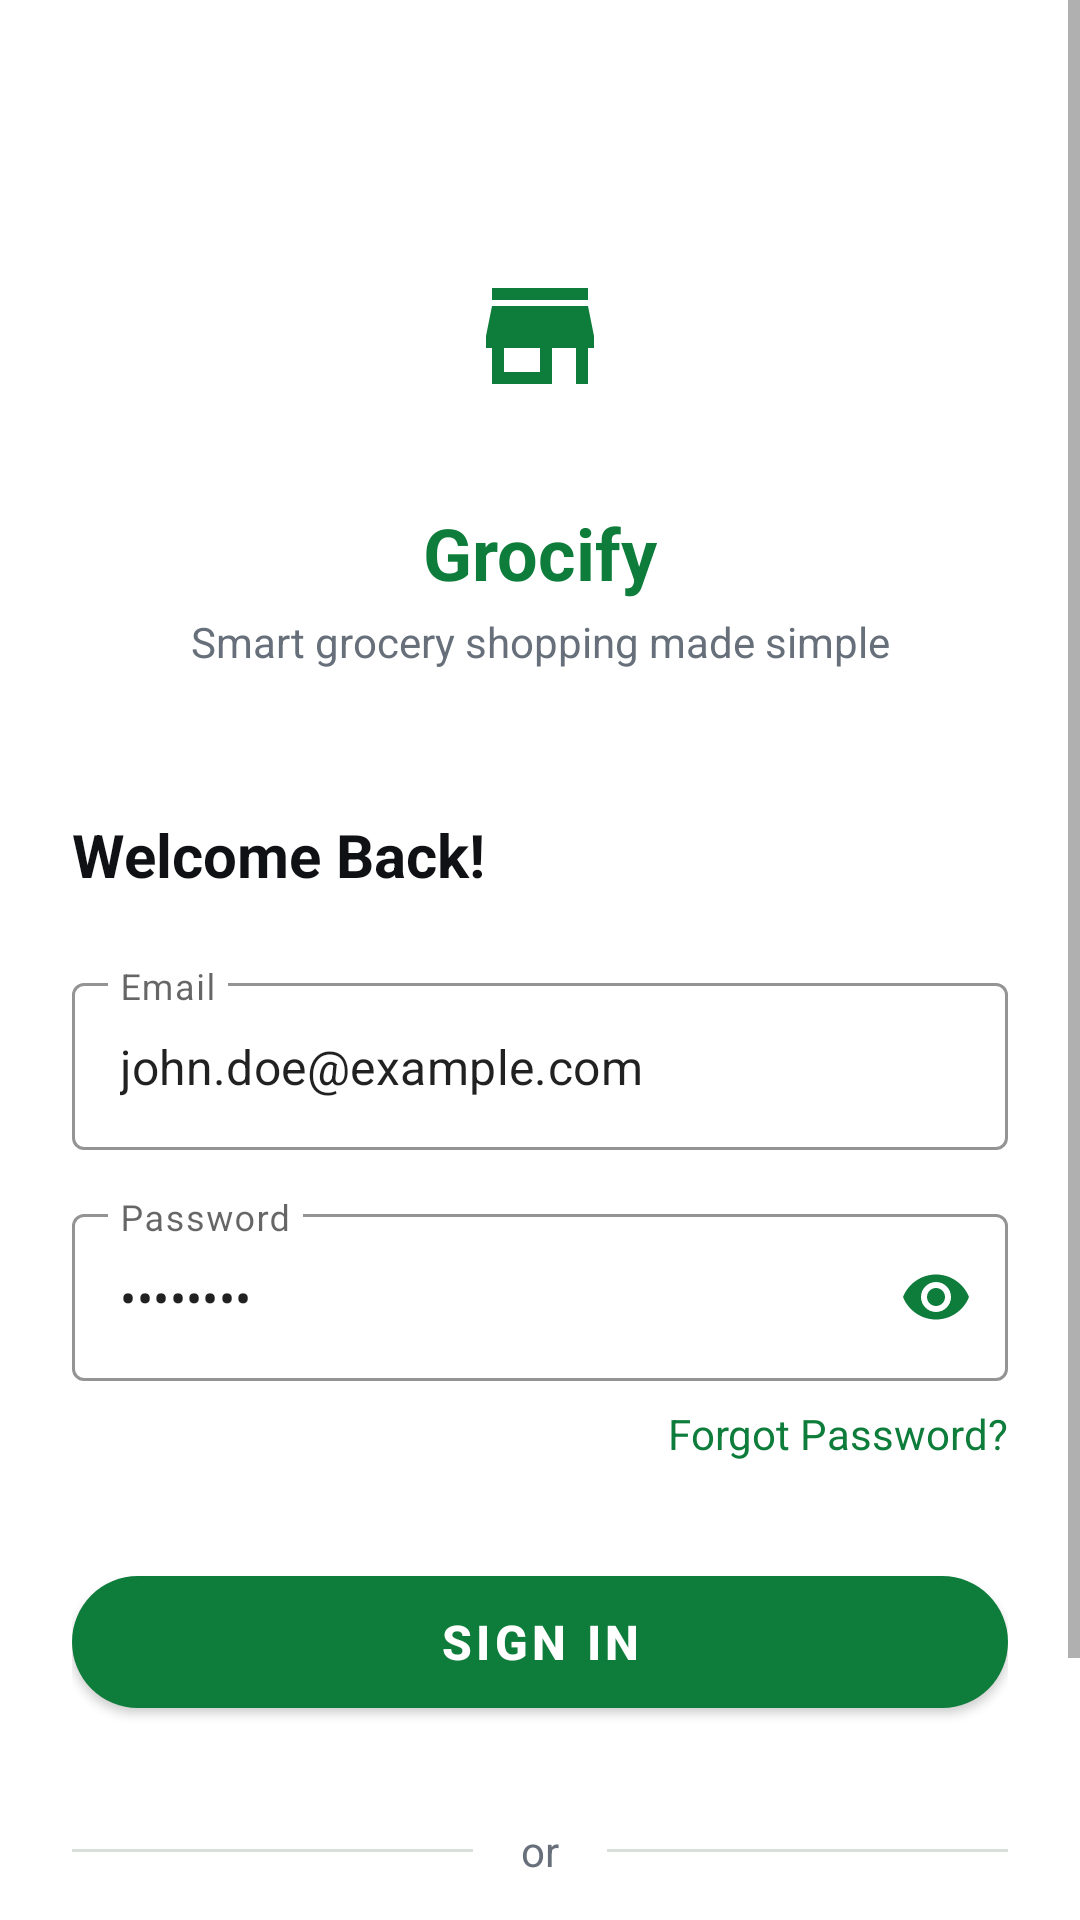

Locate icon controls on the screen. Image size 1080x1920, boxes as (x1, y1, x2, y2).
store: (486, 288, 594, 384)
